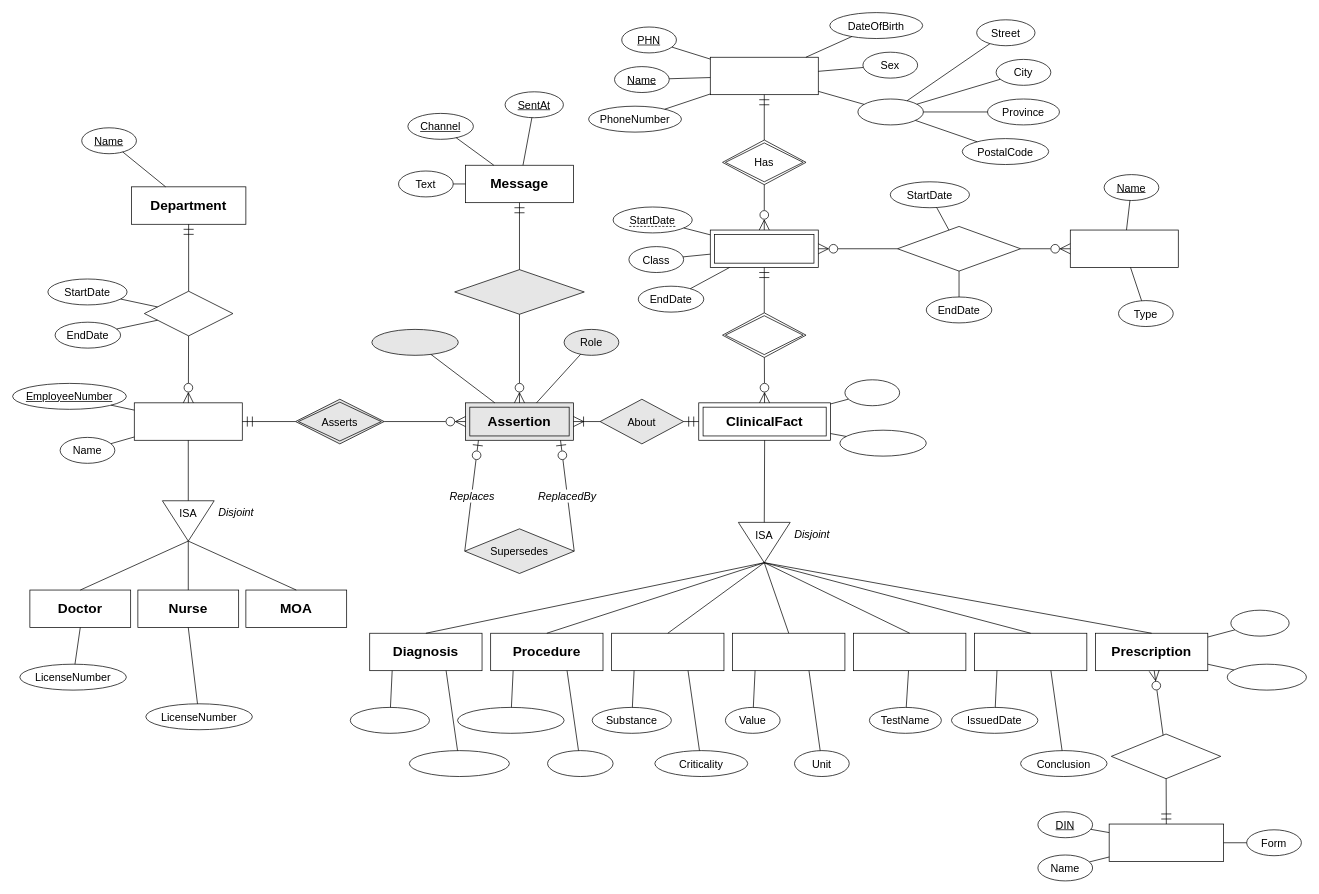
Image size: 1319x894. Some labels were removed from this diagram. The shapes that lost their labels are listed below. From the top down, each one's centre as x and y in pixels, then its label:
At point (764, 76): "Patient".
At point (890, 111): "Address".
At point (764, 248): "Visit".
At point (959, 248): "TakesPlaceIn".
At point (1124, 248): "Location".
At point (519, 291): "ExtractedFrom".
At point (188, 313): "WorksIn".
At point (414, 342): "AssertedAt".
At point (764, 334): "During".
At point (872, 392): "Code".
At point (188, 421): "Staff".
At point (882, 442): "RecordedAt".
At point (1259, 622): "Dosage".
At point (667, 652): "Allergy".
At point (788, 652): "Observation".
At point (909, 652): "LabOrder".
At point (1030, 652): "LabReport".
At point (1266, 676): "Frequency".
At point (389, 720): "OnsetDate".
At point (510, 720): "PerformedDate".
At point (459, 763): "Verification".
At point (580, 763): "Outcome".
At point (1166, 756): "Prescribes".
At point (1166, 842): "Medication".
